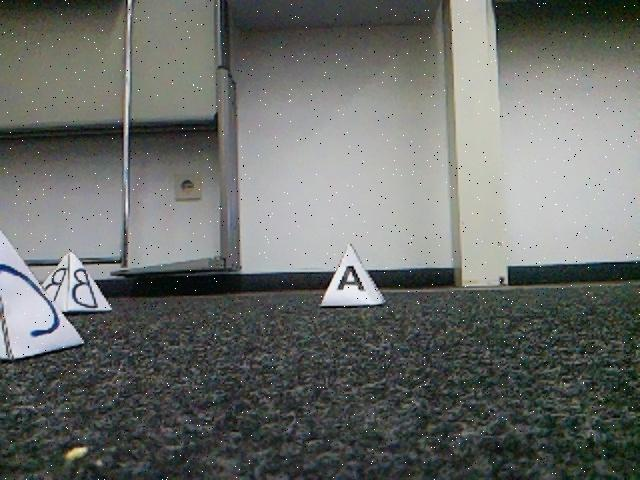A: (318, 243, 385, 308)
B: (32, 251, 112, 313)
C: (0, 228, 88, 366)
